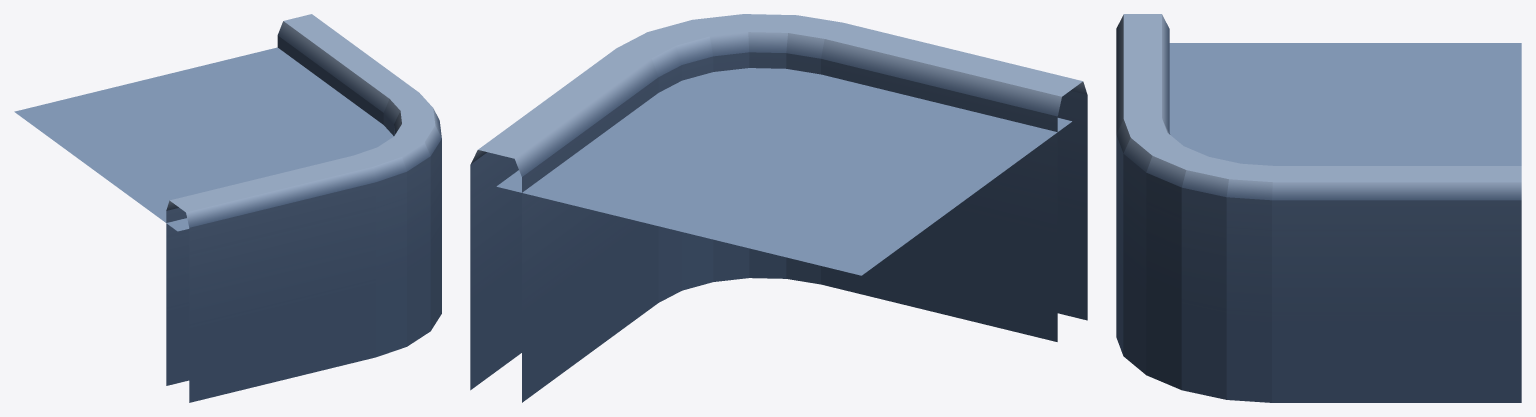
The model's file is Base_Inner.fbx.
3 views of the same model, side by side, from view 1: azimuth 30°, elevation 25°; view 2: azimuth 150°, elevation 25°; view 3: azimuth 270°, elevation 25° (orthographic). The views are drawn at different scales.
Visible parts, largest first — view 1: Base_Inner; view 2: Base_Inner; view 3: Base_Inner.
Part boxes in pixels (<box>): Base_Inner: <box>14,14,441,402</box>; Base_Inner: <box>470,14,1087,402</box>; Base_Inner: <box>1116,14,1521,402</box>.
Size of the model in its own units: 76 by 45 by 76.
